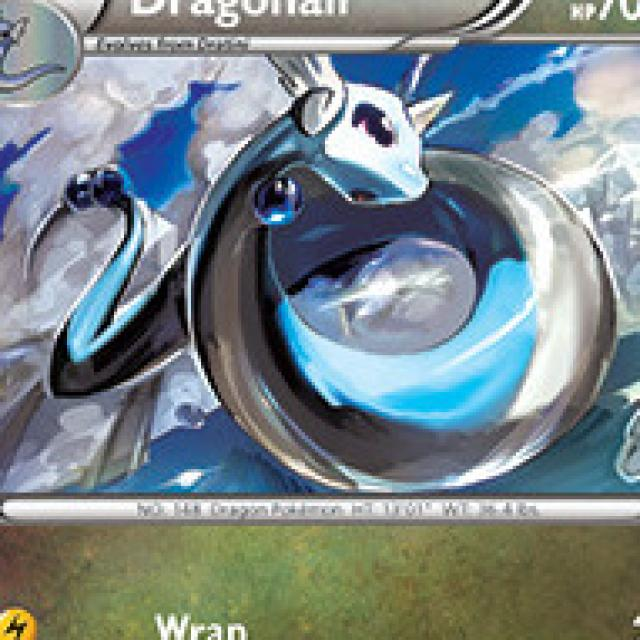Dragonair: (68, 62, 613, 490)
